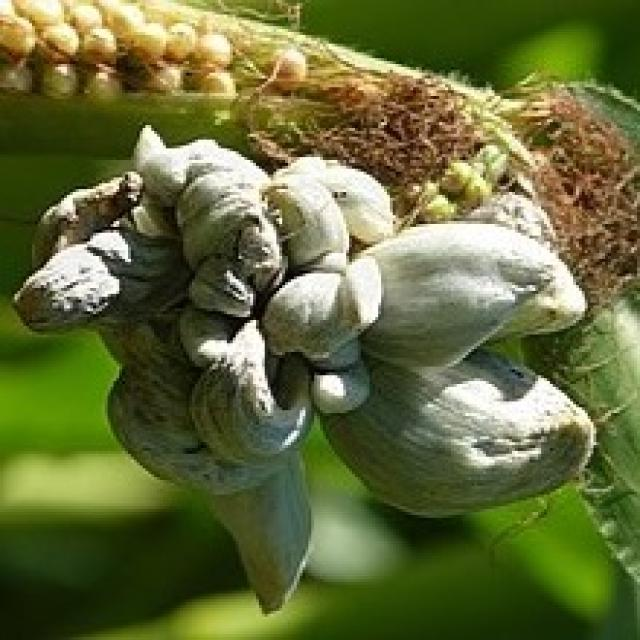Leaf_Scald: (10, 75, 630, 640)
